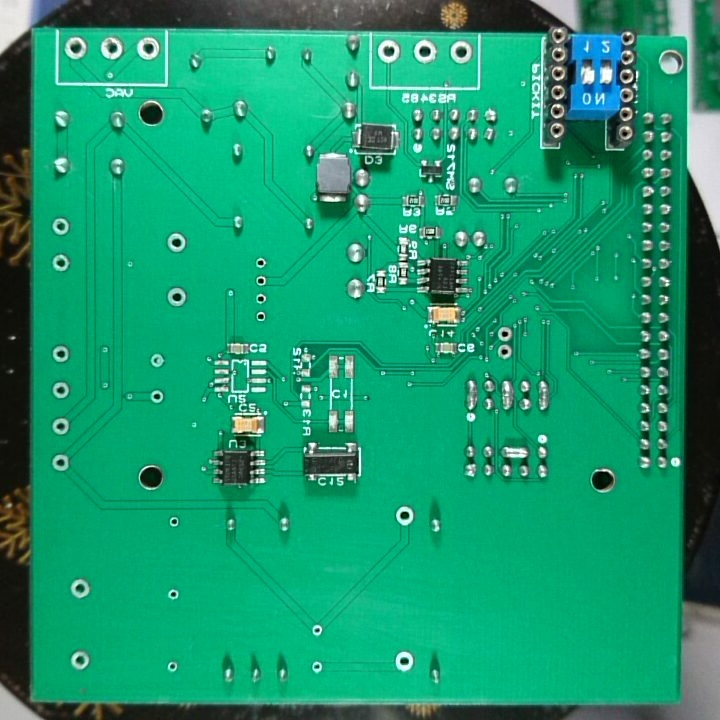F: (411, 38, 438, 68), (97, 35, 125, 63), (376, 37, 402, 66), (62, 35, 89, 62), (135, 35, 161, 63), (448, 38, 474, 66), (164, 229, 188, 256), (68, 576, 93, 601), (393, 649, 417, 675), (165, 285, 189, 311), (68, 648, 92, 672), (394, 504, 417, 528), (49, 380, 72, 403), (50, 215, 72, 239), (49, 253, 71, 276), (49, 452, 71, 474), (50, 343, 72, 365), (50, 416, 71, 438), (147, 387, 166, 409), (148, 351, 168, 371), (494, 324, 514, 343), (495, 342, 514, 360), (252, 272, 270, 290), (252, 290, 270, 308), (253, 308, 271, 326), (166, 586, 182, 604), (252, 254, 268, 272), (310, 621, 325, 638), (309, 659, 324, 676), (165, 658, 180, 675), (167, 513, 181, 531)
P: (463, 376, 481, 413), (498, 377, 515, 415), (497, 442, 531, 460), (536, 377, 551, 413)
